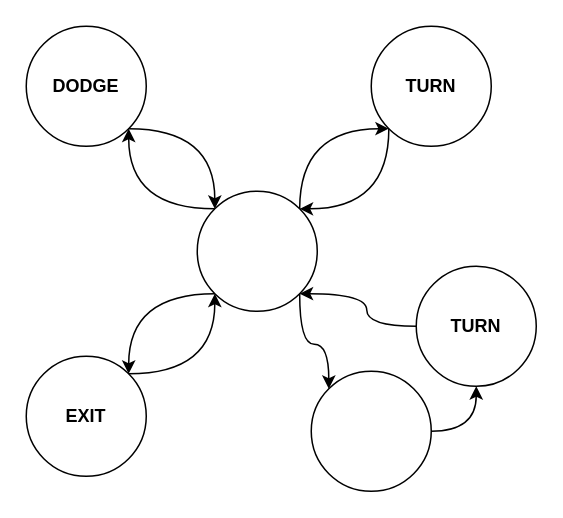
Some shapes in this 563 by 518 pixel diagram are drawn without their labels. Here are the shapes that lost their labels. From the top down, the centre of each, then its label:
At point (256, 250): "STOP".
At point (370, 430): "OVAL".
